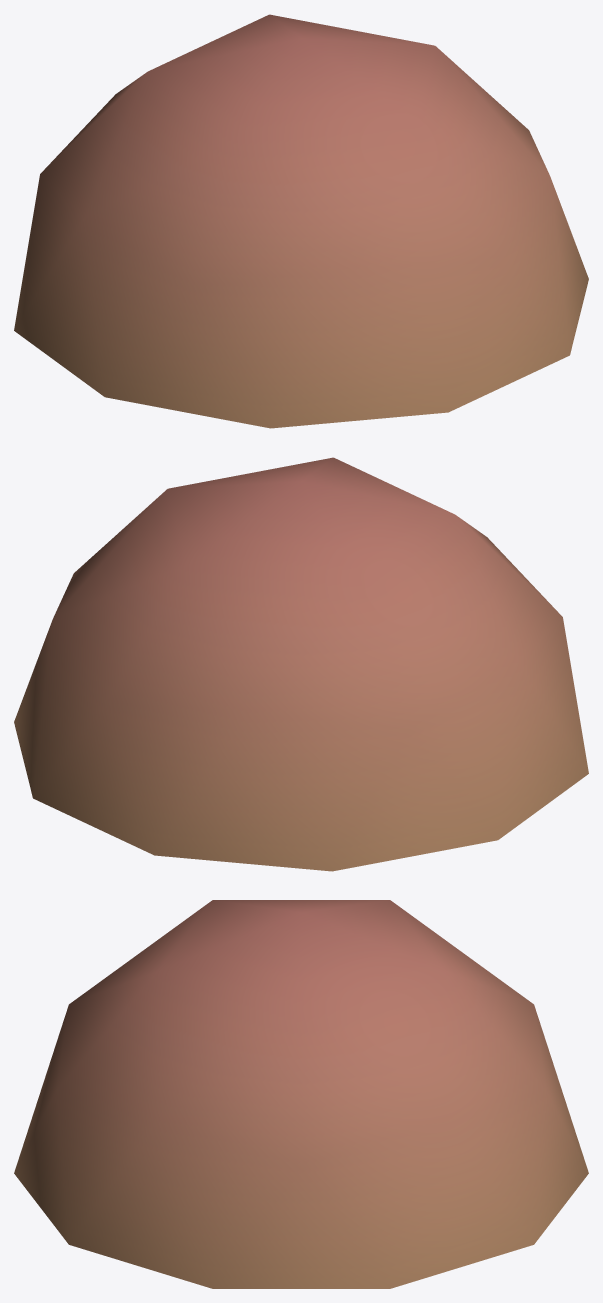
3 renders of one model, top to bottom at view 1: azimuth 30°, elevation 25°; view 2: azimuth 150°, elevation 25°; view 3: azimuth 270°, elevation 25°, orthographic. The views are drawn at different scales.
Parts seen in each view (by area): view 1: Icosphere.020; view 2: Icosphere.020; view 3: Icosphere.020.
Boxes of the visible parts, x1,y1,x2,y2 form: Icosphere.020: (14,14,588,428); Icosphere.020: (14,457,588,871); Icosphere.020: (14,900,588,1288).
Size of the model in its own units: 7.53 by 3.96 by 7.91.
